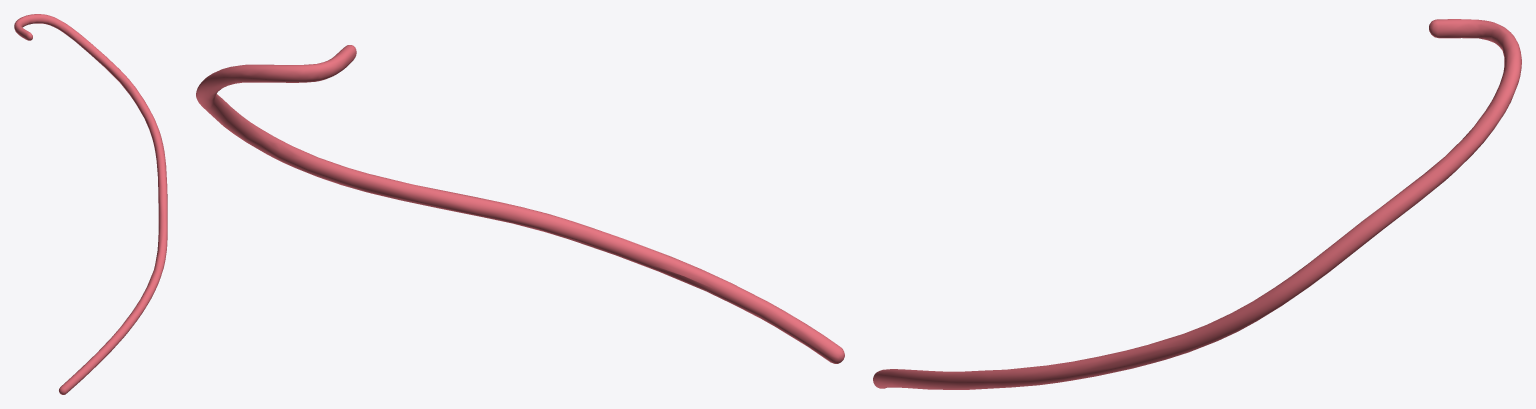
The model's file is fma66243_fj1973.glb.
3 renders of one model, left to right at view 1: azimuth 30°, elevation 25°; view 2: azimuth 150°, elevation 25°; view 3: azimuth 270°, elevation 25°, orthographic. The views are drawn at different scales.
Parts seen in each view (by area): view 1: FMA66243_FJ1973; view 2: FMA66243_FJ1973; view 3: FMA66243_FJ1973.
Boxes of the visible parts, left/top/right/bottom form: FMA66243_FJ1973: left=14, top=14, right=167, bottom=394; FMA66243_FJ1973: left=196, top=45, right=844, bottom=363; FMA66243_FJ1973: left=873, top=19, right=1521, bottom=389.
Size of the model in its own units: 0.0491 by 0.0549 by 0.0687.
